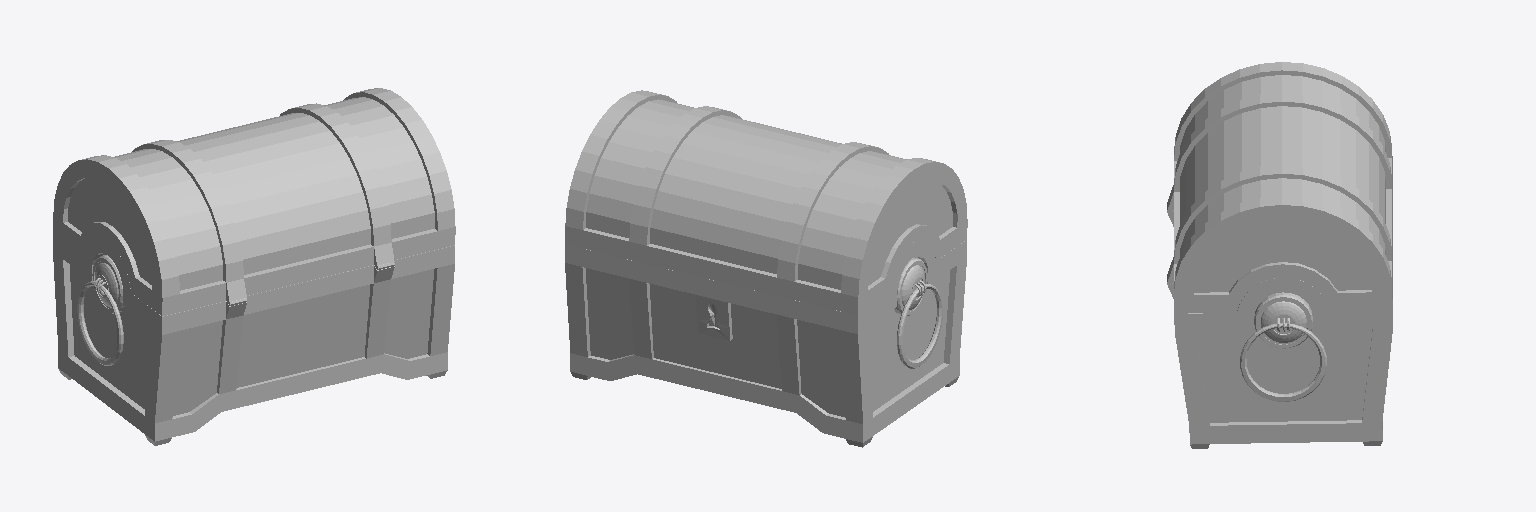
The model's file is chest.obj.
The picture shows the model from 3 angles: view 1: azimuth 30°, elevation 25°; view 2: azimuth 150°, elevation 25°; view 3: azimuth 270°, elevation 25°; orthographic projection.
Parts seen in each view (by area): view 1: default; view 2: default; view 3: default.
Boxes of the visible parts, box(x1,y1,x2,y2) form: default: box(53, 88, 455, 445); default: box(565, 90, 967, 447); default: box(1167, 62, 1392, 448).
Bounding box in the file's own units: 2.63 × 1.95 × 1.63.